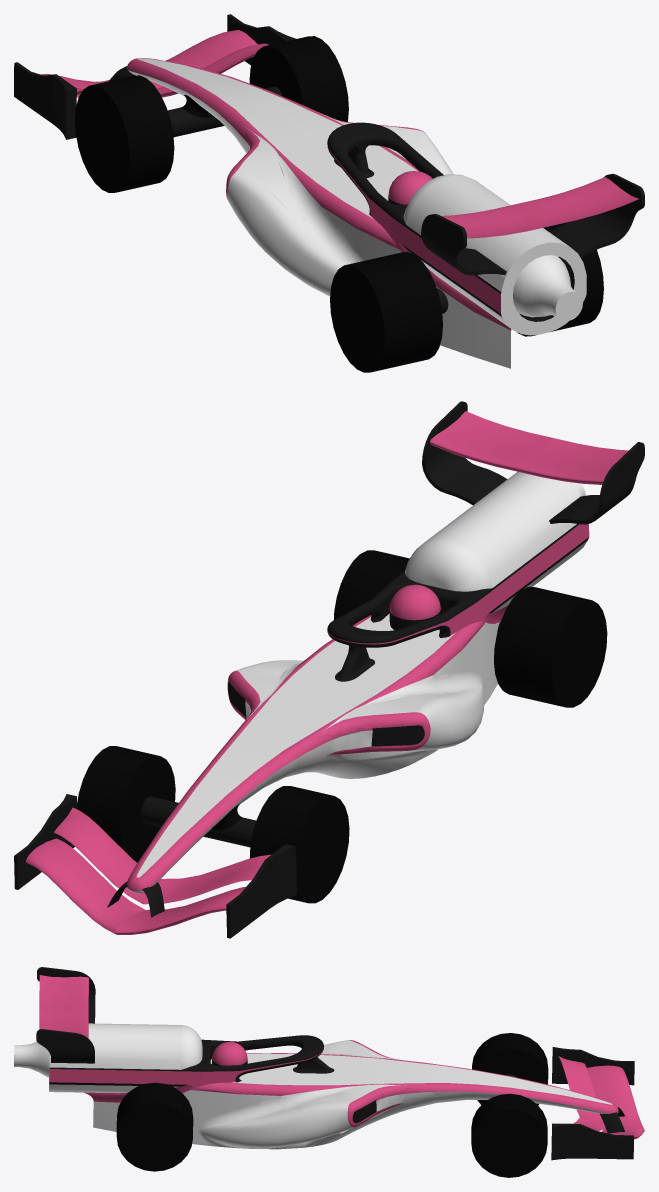
File: Showcar with Livery 1.glb
3 renders of one model, top to bottom at view 1: azimuth 30°, elevation 25°; view 2: azimuth 150°, elevation 25°; view 3: azimuth 270°, elevation 25°, orthographic. The views are drawn at different scales.
Parts seen in each view (by area): view 1: Body2_face229.001_Body2_face229.002; view 2: Body2_face229.001_Body2_face229.002; view 3: Body2_face229.001_Body2_face229.002.
Part boxes in pixels (box(x1,y1,x2,y2)): Body2_face229.001_Body2_face229.002: box(14, 14, 644, 372); Body2_face229.001_Body2_face229.002: box(14, 401, 644, 938); Body2_face229.001_Body2_face229.002: box(14, 967, 644, 1177).
Bounding box in the file's own units: 0.9377 × 0.8083 × 3.21.
